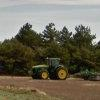Tractor: (23, 53, 74, 88)
